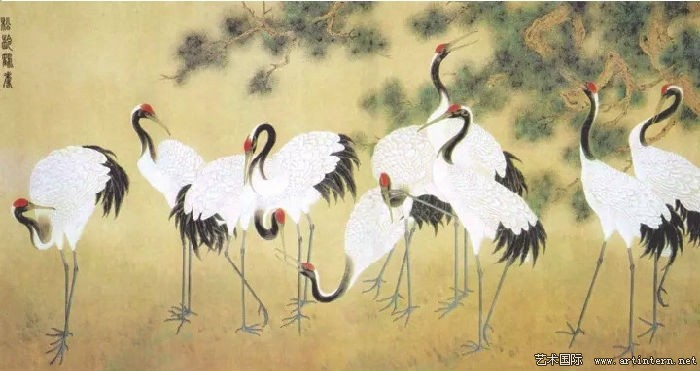crane: (243, 38, 531, 346), (570, 75, 689, 352), (128, 102, 244, 341), (11, 143, 129, 366)
tree: (158, 1, 700, 148)
